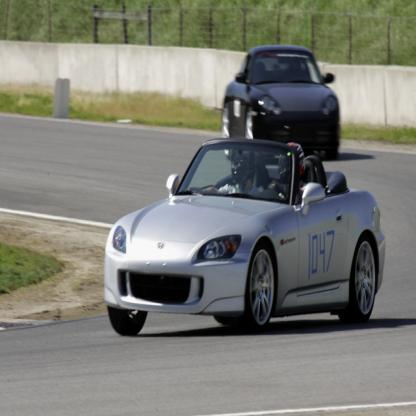Car: (105, 138, 387, 337), (223, 46, 341, 160)
